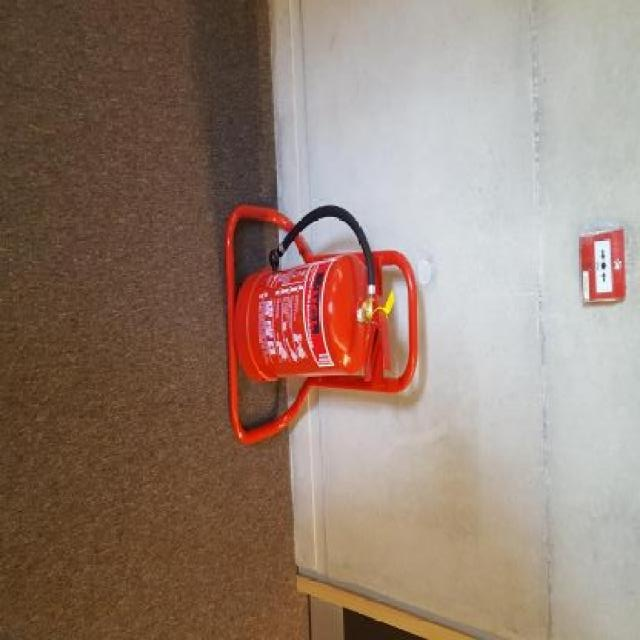fire extinguisher: (235, 204, 393, 384)
